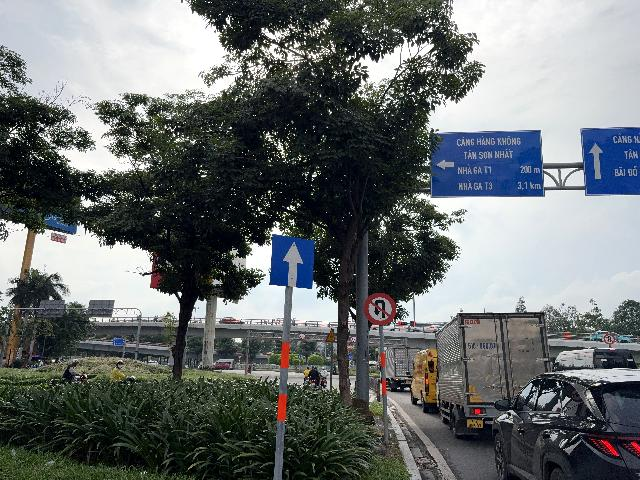cam-quay-dau-xe: (363, 292, 397, 326)
duong-mot-chieu: (270, 234, 315, 289)
